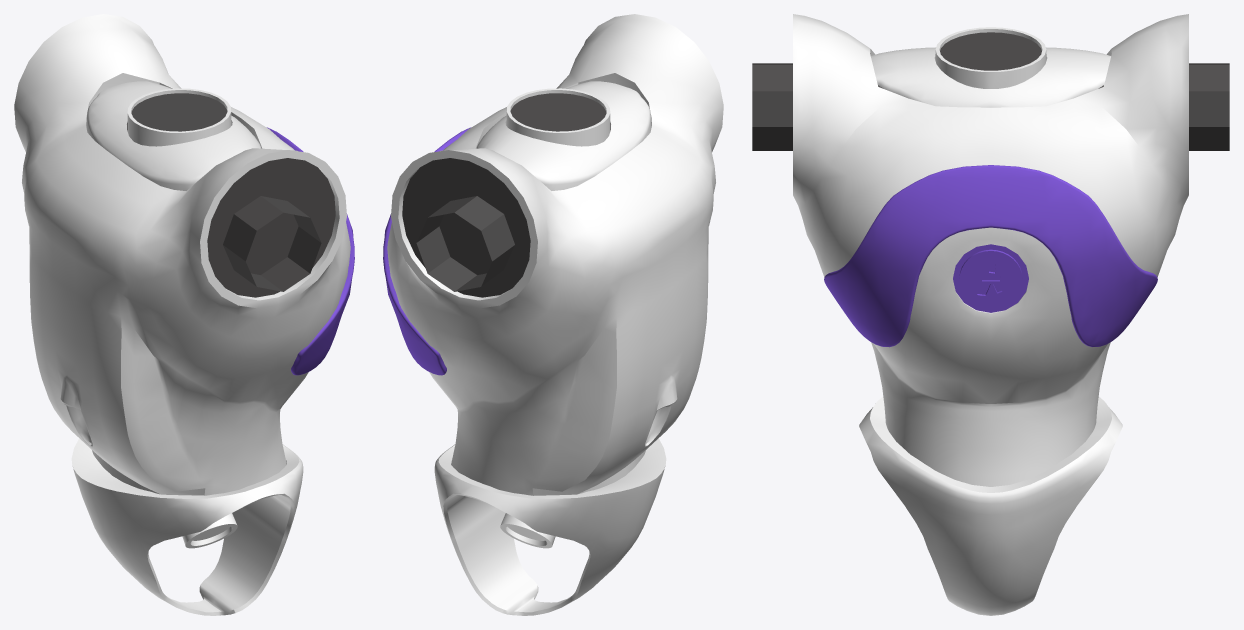
File: Torso.dae
The picture shows the model from 3 angles, left to right: view 1: azimuth 30°, elevation 25°; view 2: azimuth 150°, elevation 25°; view 3: azimuth 270°, elevation 25°; orthographic projection. The views are drawn at different scales.
Parts seen in each view (by area): view 1: Torso; view 2: Torso; view 3: Torso.
Part boxes in pixels (x1,y1,x2,y2): Torso: (14, 14, 354, 615); Torso: (383, 14, 723, 615); Torso: (752, 14, 1229, 615).
Bounding box in the file's own units: 1.12 × 1.74 × 2.29.
1 material, 1 textured.
